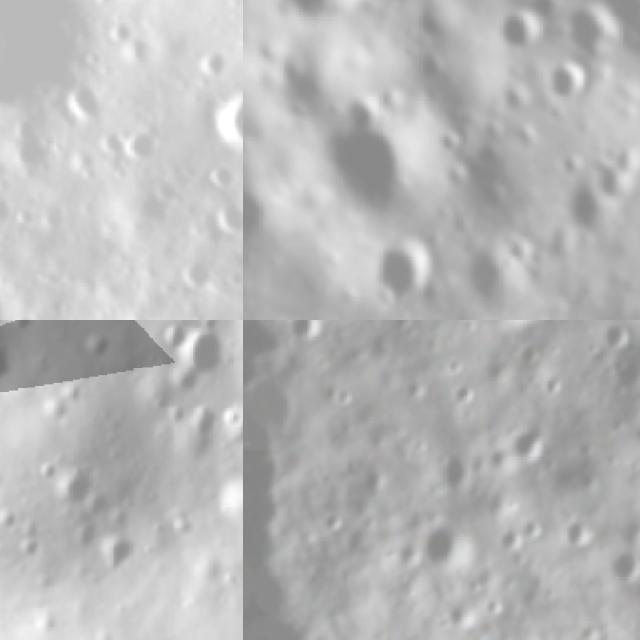crater: (308, 92, 430, 218), (0, 0, 116, 131), (368, 235, 439, 320), (1, 110, 64, 183), (559, 173, 616, 250), (560, 0, 626, 65), (588, 141, 640, 212), (459, 242, 516, 306), (420, 522, 486, 572), (535, 53, 591, 111), (204, 80, 243, 162), (115, 116, 172, 170), (58, 80, 114, 134), (182, 328, 234, 381), (512, 416, 557, 470), (187, 36, 234, 86), (172, 253, 220, 301), (49, 468, 101, 510), (203, 194, 243, 248), (98, 534, 144, 578), (495, 10, 537, 58), (35, 197, 77, 242), (201, 156, 243, 200), (210, 479, 243, 535), (589, 321, 640, 354), (150, 171, 190, 212), (432, 452, 474, 489), (449, 371, 486, 411), (105, 13, 144, 50), (275, 321, 337, 343), (11, 195, 43, 236), (521, 0, 564, 29), (564, 514, 596, 551), (165, 367, 201, 398), (158, 320, 192, 351), (612, 546, 638, 582), (225, 402, 243, 453), (483, 591, 511, 617), (516, 333, 538, 366), (332, 383, 361, 408), (448, 606, 474, 632), (321, 513, 349, 537), (518, 518, 548, 540), (0, 341, 12, 392), (502, 528, 521, 550)
